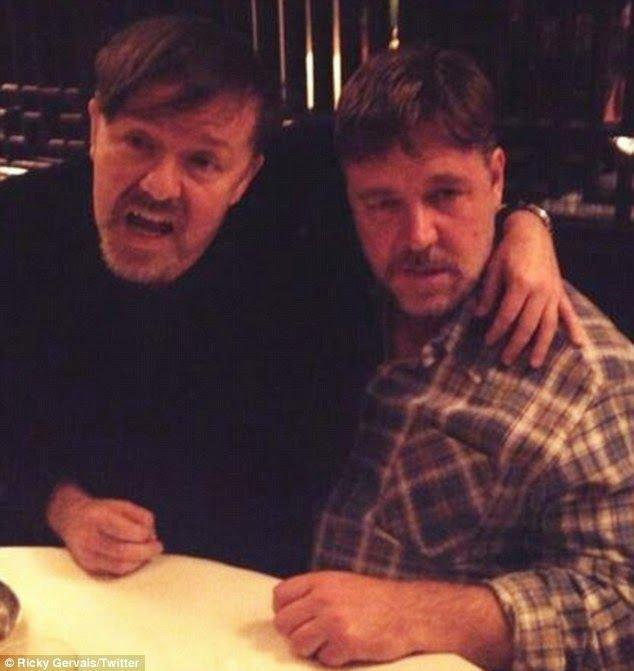Drunk: (98, 82, 234, 277), (348, 135, 493, 312)
